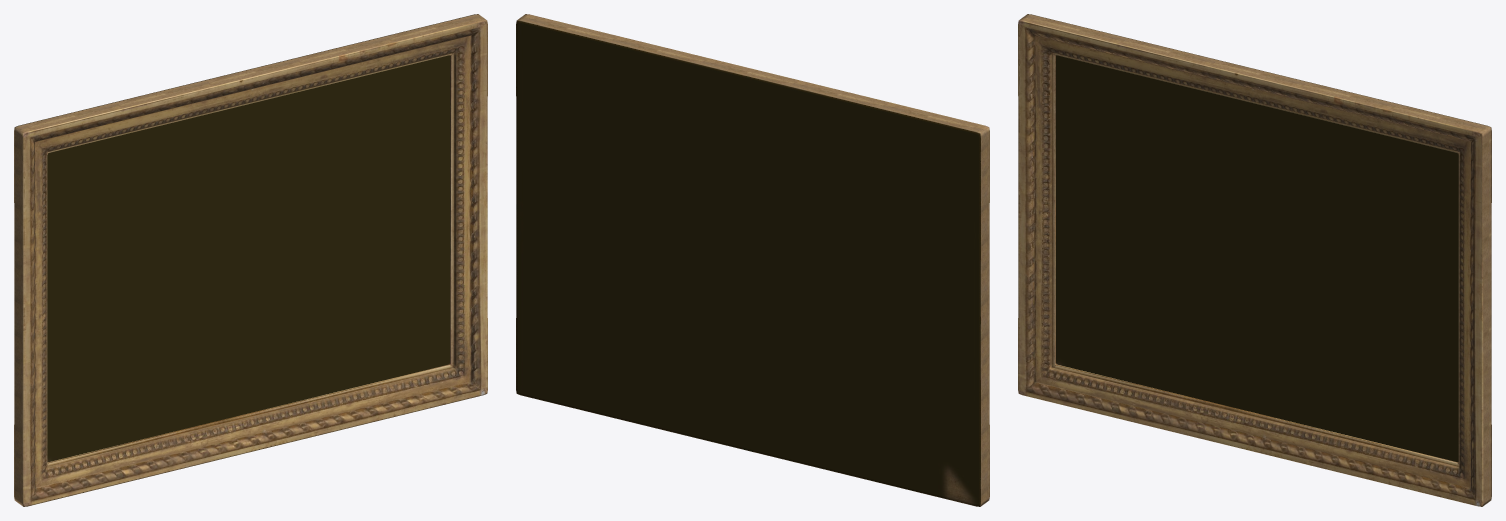
File: fancy-picture-frame-01.glb
3 renders of one model, left to right at view 1: azimuth 30°, elevation 25°; view 2: azimuth 150°, elevation 25°; view 3: azimuth 330°, elevation 25°, orthographic.
Parts seen in each view (by area): view 1: fancy_picture_frame_01; view 2: fancy_picture_frame_01; view 3: fancy_picture_frame_01.
Part boxes in pixels (bbox=[...]): fancy_picture_frame_01: bbox=[14, 14, 487, 506]; fancy_picture_frame_01: bbox=[516, 14, 989, 506]; fancy_picture_frame_01: bbox=[1018, 14, 1491, 506].
Bounding box in the file's own units: 0.603 × 0.4641 × 0.02.
Materials: 1 (1 with a texture image).
